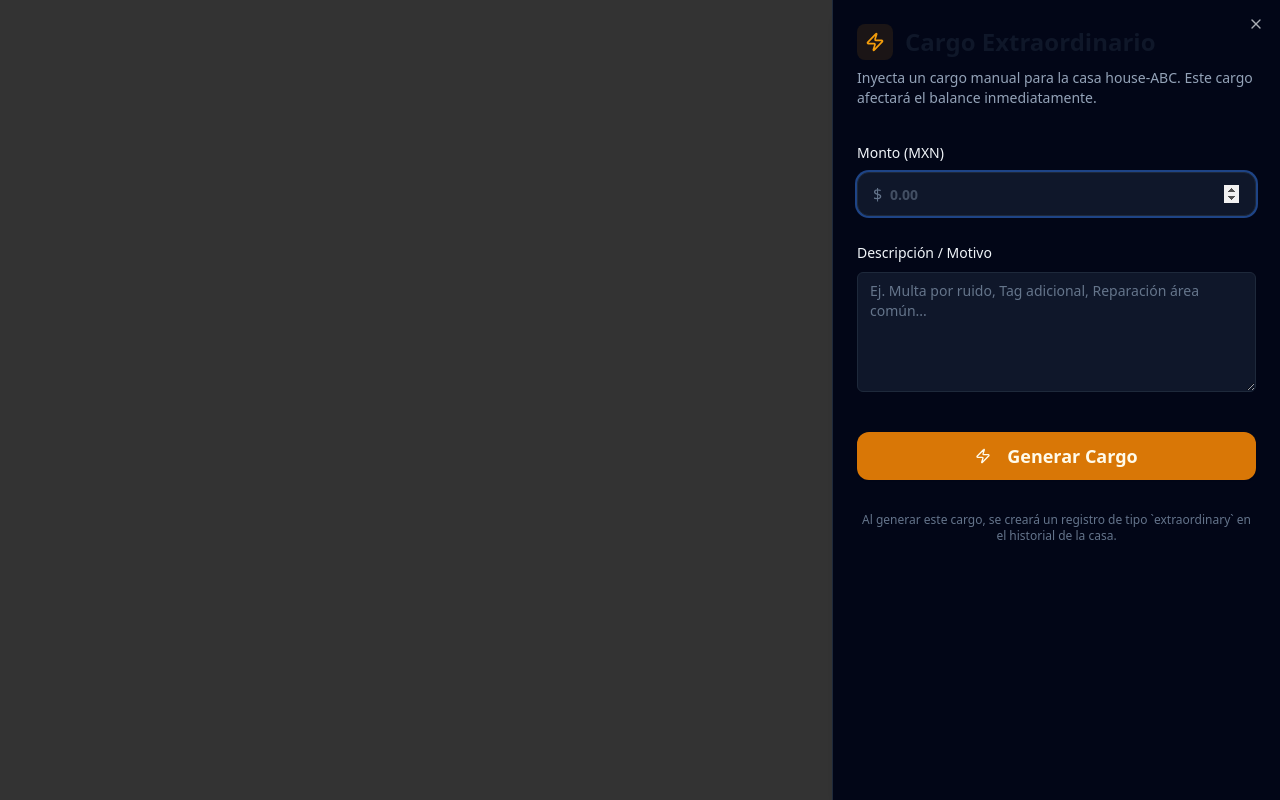
ExtraordinaryFeeSlideOver › shows error if service fails
Type "100" into the number field labelled "Monto (MXN)". click: (1056, 194)
box: [857,172,1256,216]
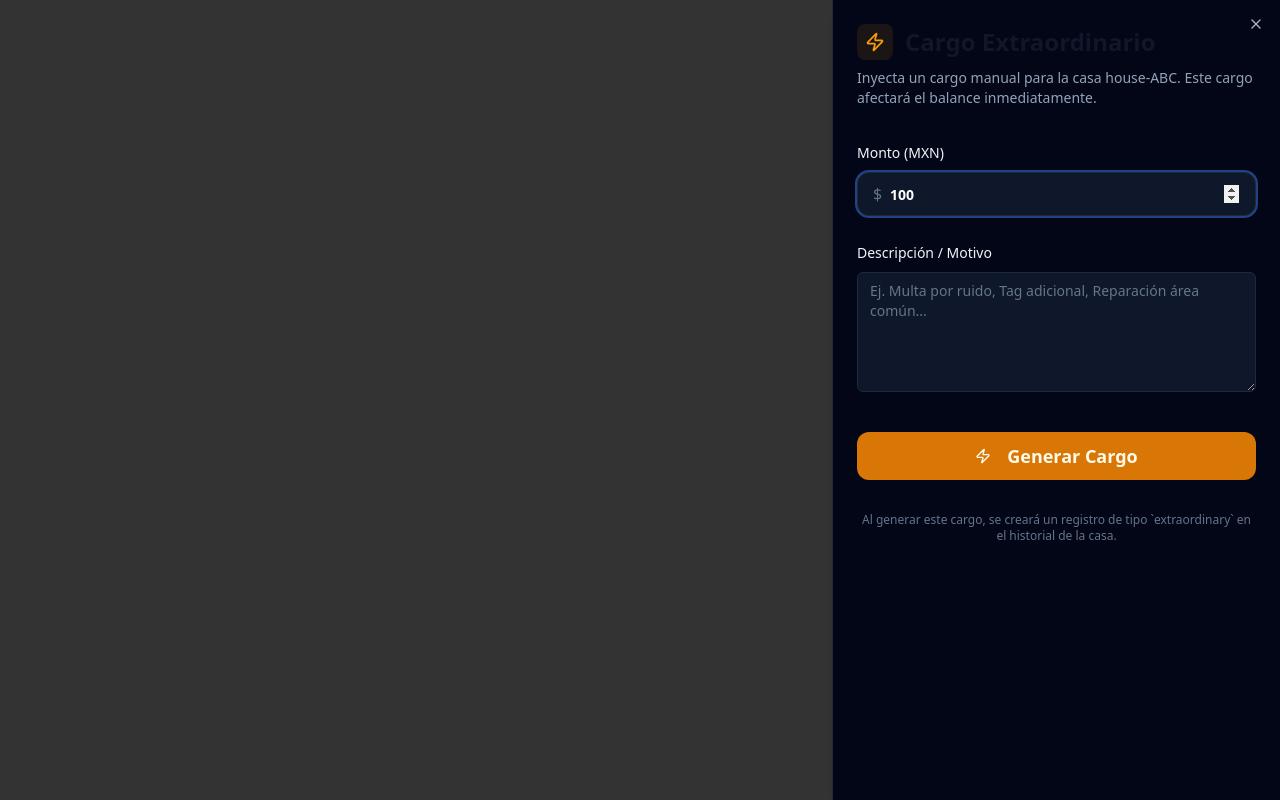
Type "Test" into the text box labelled "Descripción / Motivo". click: (1056, 332)
box: [857,272,1256,392]
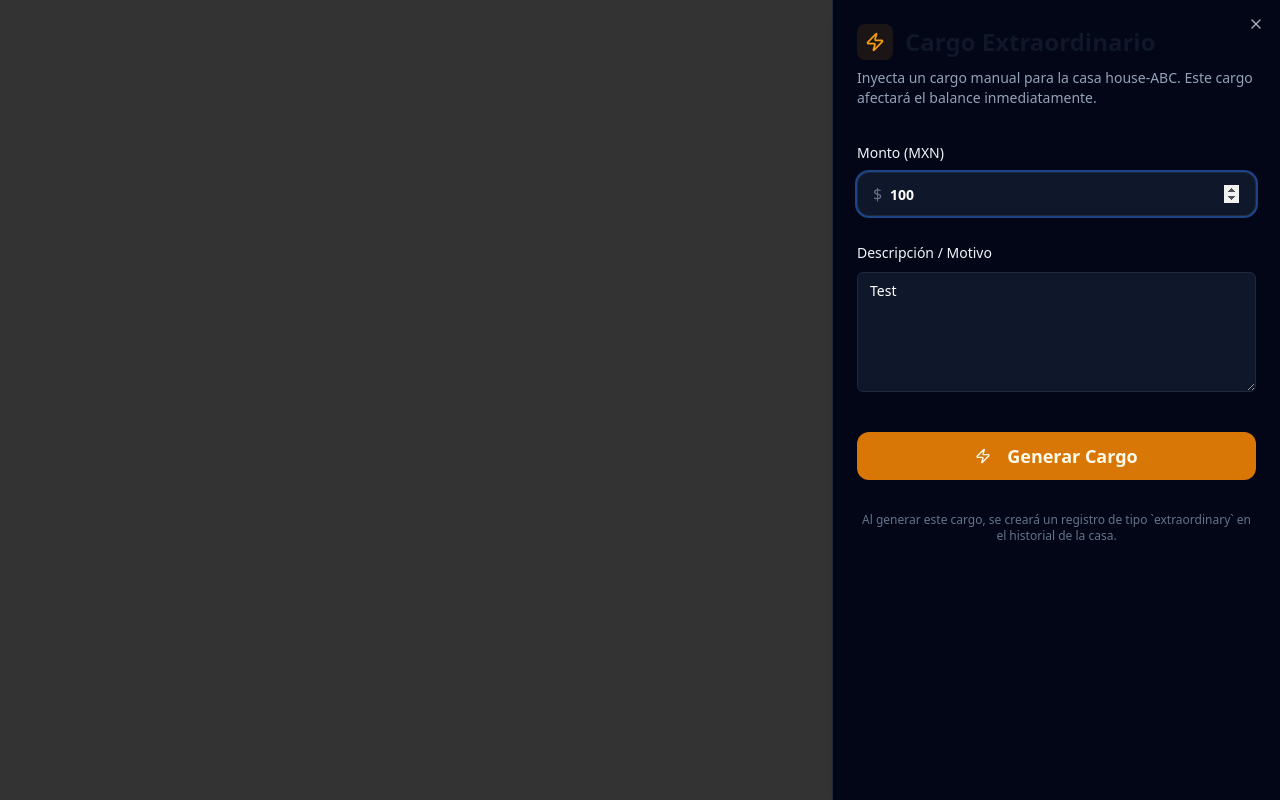
Click the button "Generar Cargo". click: (1056, 456)
box: [857,432,1256,480]
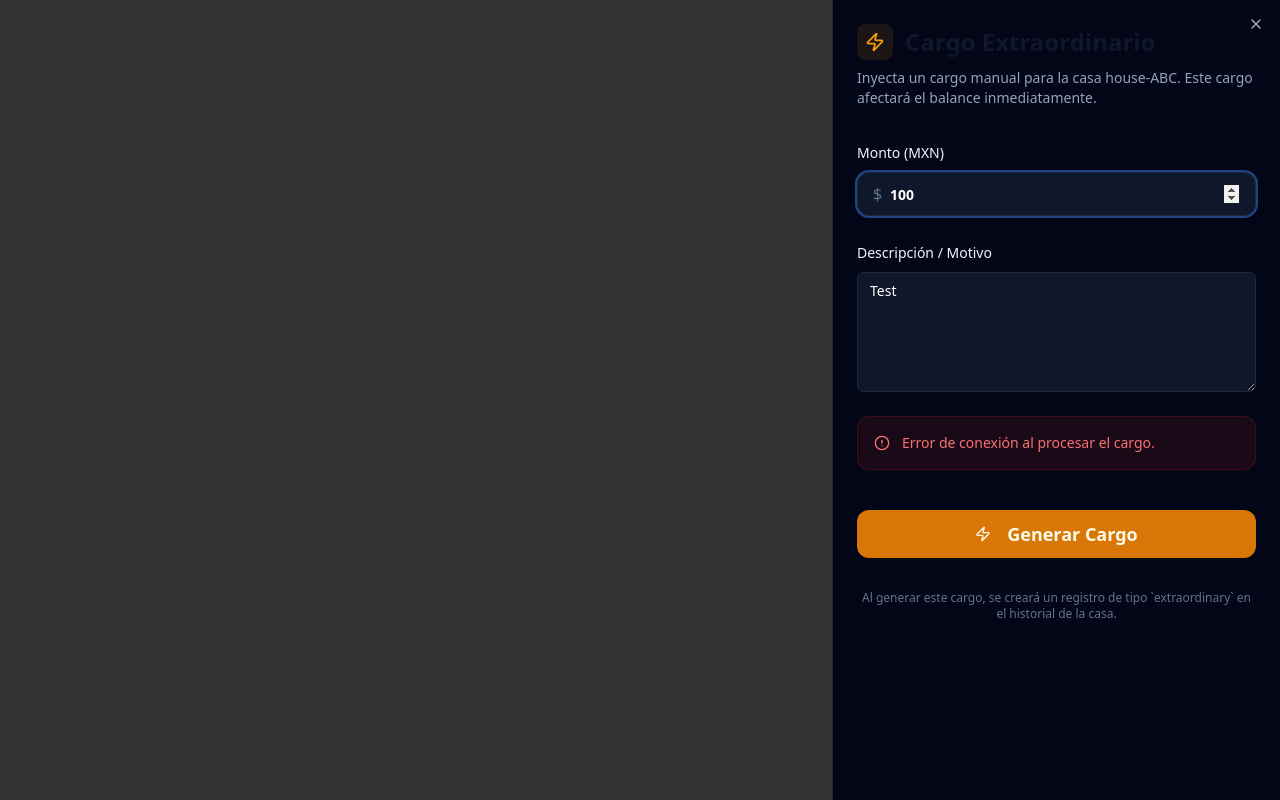
Check: the text "Error de conexión al procesar el cargo." is shown, box [857,416,1256,470]
